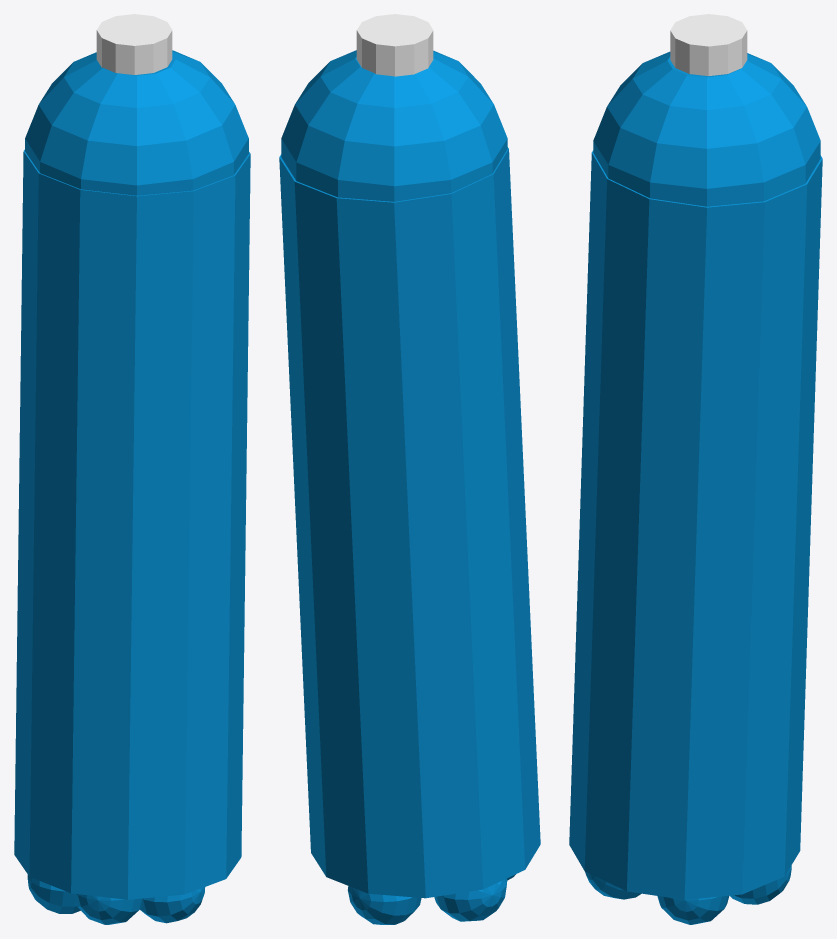
3 views of the same model, side by side, from view 1: azimuth 30°, elevation 25°; view 2: azimuth 150°, elevation 25°; view 3: azimuth 270°, elevation 25° (orthographic).
Parts seen in each view (by area): view 1: mesh_186648742, mesh_1342742846, mesh_904750015, mesh_155606243, mesh_2074719723, mesh_556171242; view 2: mesh_186648742, mesh_1342742846, mesh_904750015, mesh_556171242, mesh_1879149154; view 3: mesh_186648742, mesh_1342742846, mesh_904750015, mesh_1111924475, mesh_1879149154, mesh_2074719723.
Part boxes in pixels (x1,y1,x2,y2): mesh_186648742: (14, 149, 250, 899); mesh_1342742846: (25, 50, 248, 195); mesh_904750015: (96, 14, 172, 74); mesh_155606243: (74, 893, 142, 924); mesh_2074719723: (140, 887, 205, 923); mesh_556171242: (27, 874, 80, 913); mesh_186648742: (279, 147, 540, 898); mesh_1342742846: (281, 50, 507, 201); mesh_904750015: (356, 14, 433, 76); mesh_556171242: (434, 878, 507, 921); mesh_1879149154: (347, 886, 421, 924); mesh_186648742: (569, 150, 822, 899); mesh_1342742846: (593, 51, 820, 206); mesh_904750015: (670, 14, 747, 76); mesh_1111924475: (657, 895, 729, 924); mesh_1879149154: (730, 865, 791, 904); mesh_2074719723: (585, 871, 641, 899).
Size of the model in its own units: 29.77 by 113 by 29.62.
